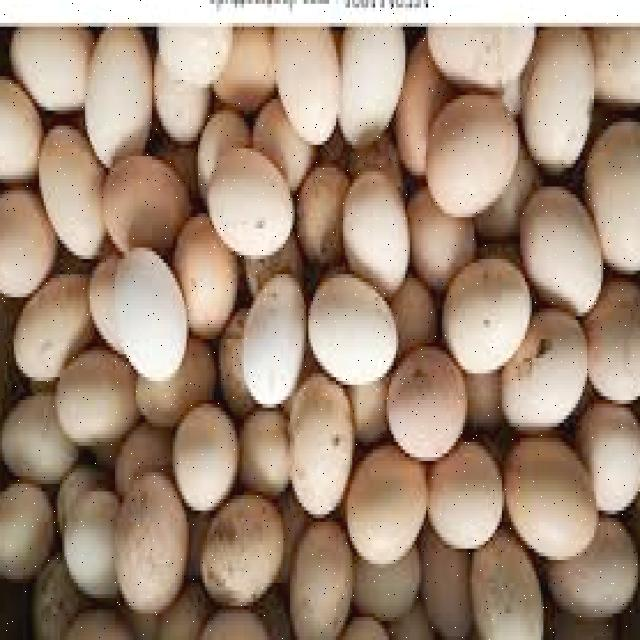Dirt Stained Egg: (122, 470, 201, 598), (203, 506, 294, 605), (472, 549, 555, 640), (299, 522, 362, 640), (294, 172, 346, 278)
White Egg: (108, 251, 194, 377)
